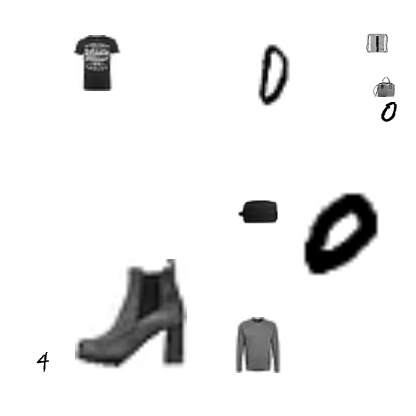0: (281, 174, 393, 286), (229, 33, 313, 117), (375, 97, 403, 125)
4: (29, 346, 57, 374)
Ankle_boot: (75, 259, 187, 371)
Bag: (237, 190, 279, 232), (373, 76, 395, 98), (366, 32, 388, 54)
Pullover: (230, 317, 286, 373)
T-shirt/top: (68, 35, 124, 91)
